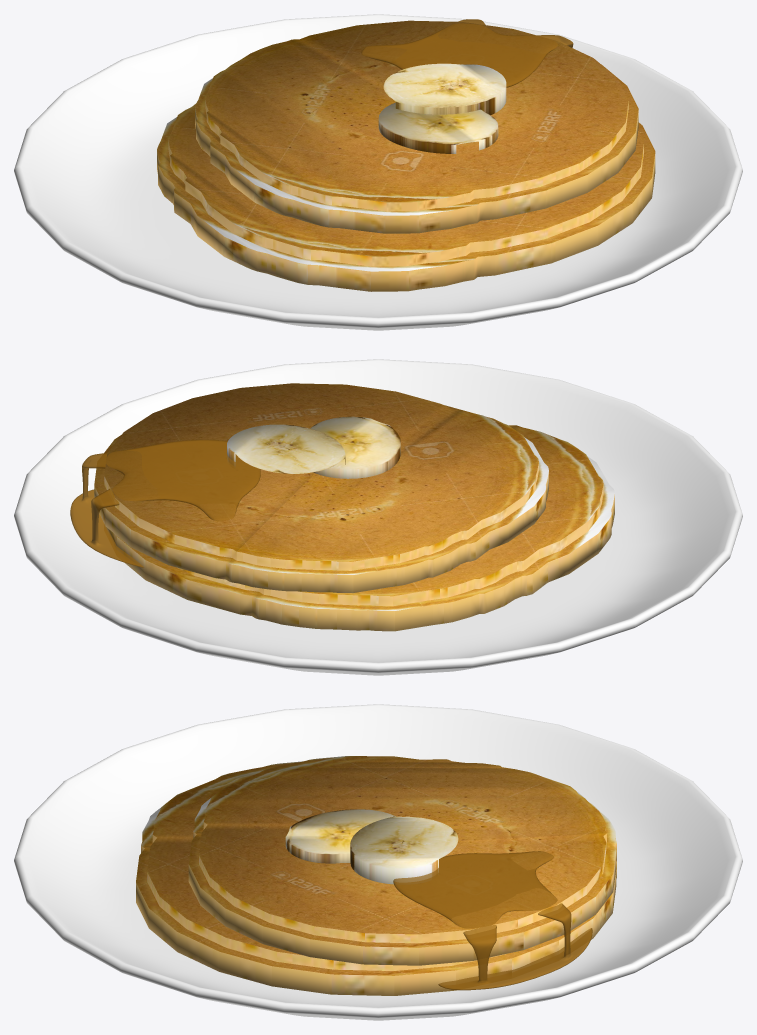
The model's file is Pancakes.dae.
3 views of the same model, one above another, from view 1: azimuth 30°, elevation 25°; view 2: azimuth 150°, elevation 25°; view 3: azimuth 270°, elevation 25° (orthographic).
Parts seen in each view (by area): view 1: group_2, group_0 (×4), group_1 (×4), SketchUp (×2), _3DGeom_4_Defintion; view 2: group_2, group_0 (×4), group_1 (×4), _3DGeom_4_Defintion, SketchUp (×2); view 3: group_2, group_0 (×4), group_1 (×4), _3DGeom_4_Defintion, SketchUp (×2).
Boxes of the visible parts, box(x1,y1,x2,y2) form: group_2: box(14, 14, 742, 330); group_0 (×4): box(195, 20, 638, 233); group_1 (×4): box(157, 103, 655, 291); SketchUp (×2): box(378, 63, 506, 153); _3DGeom_4_Defintion: box(361, 19, 573, 87); group_2: box(14, 359, 742, 675); group_0 (×4): box(94, 383, 548, 592); group_1 (×4): box(104, 405, 614, 631); _3DGeom_4_Defintion: box(70, 439, 260, 567); SketchUp (×2): box(227, 416, 400, 478); group_2: box(14, 704, 742, 1020); group_0 (×4): box(188, 756, 616, 965); group_1 (×4): box(136, 761, 616, 995); _3DGeom_4_Defintion: box(393, 851, 592, 990); SketchUp (×2): box(285, 809, 458, 884).
Bounding box in the file's own units: 4.7 × 4.7 × 0.7675.
Materials: 5 (3 with a texture image).
